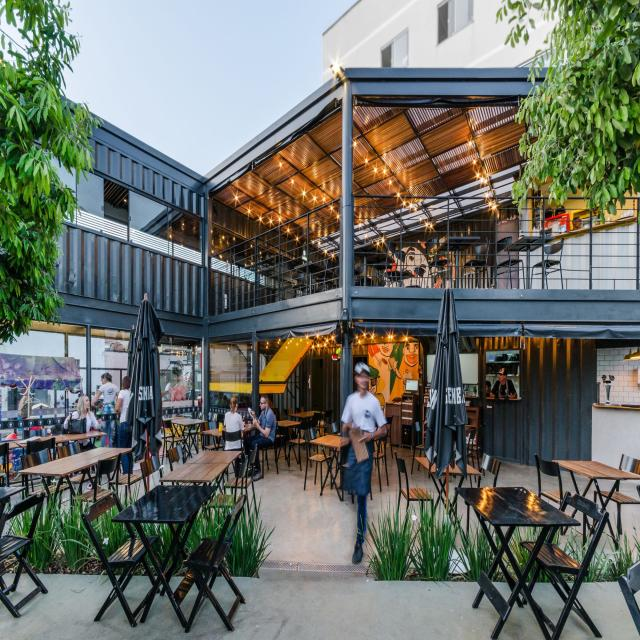person: (344, 359, 386, 578), (65, 384, 104, 462), (214, 384, 250, 459), (256, 384, 284, 472), (115, 367, 139, 466)
